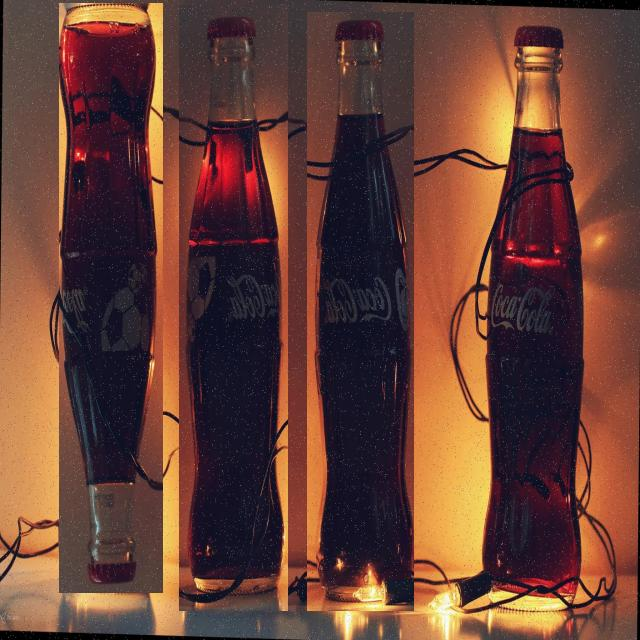coca-cola: (476, 19, 589, 628), (179, 5, 288, 611), (307, 12, 414, 611), (59, 3, 163, 593)
